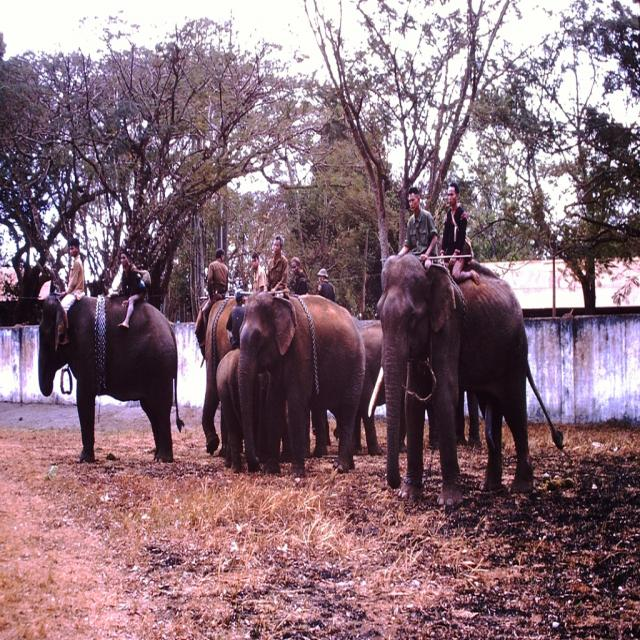elephant: (364, 255, 552, 490), (32, 292, 186, 460), (240, 298, 368, 481), (348, 321, 466, 453), (189, 285, 255, 447), (445, 366, 503, 446), (212, 352, 250, 471)
